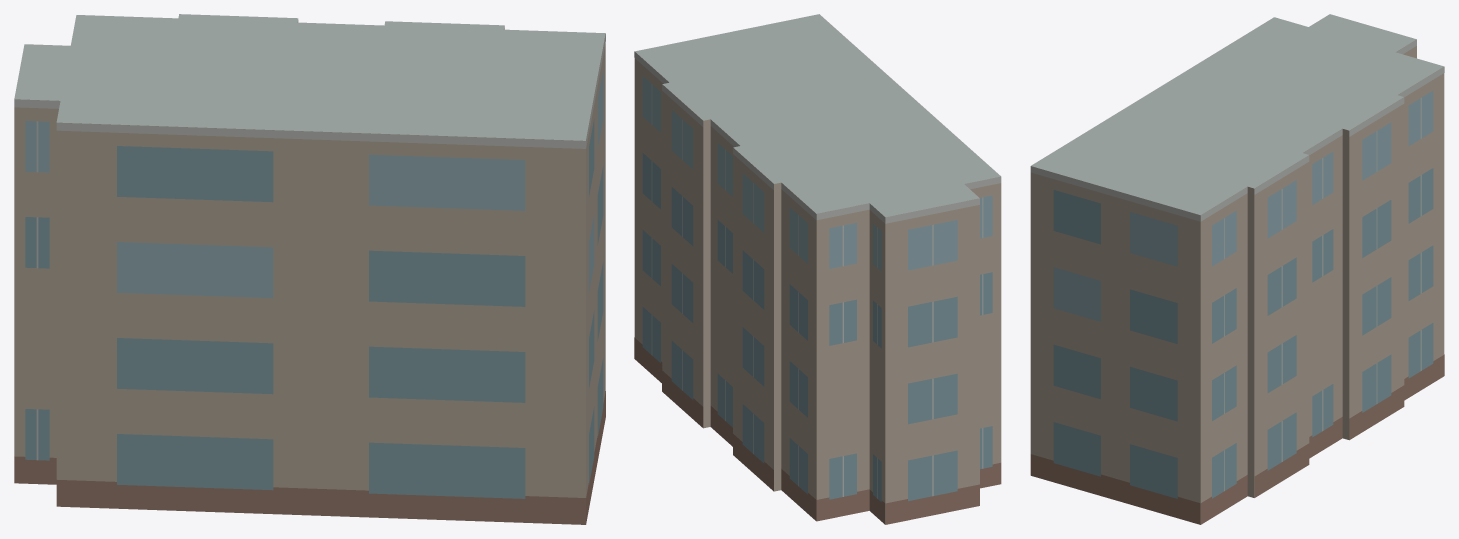
Rendered from survey-upis-32915086.glb.
3 views of the same model, side by side, from view 1: azimuth 30°, elevation 25°; view 2: azimuth 150°, elevation 25°; view 3: azimuth 270°, elevation 25° (orthographic). The views are drawn at different scales.
Parts seen in each view (by area): view 1: survey-upis-32915086.tmp; view 2: survey-upis-32915086.tmp; view 3: survey-upis-32915086.tmp.
Boxes of the visible parts, x1,y1,x2,y2 form: survey-upis-32915086.tmp: [14, 14, 605, 524]; survey-upis-32915086.tmp: [634, 14, 1001, 524]; survey-upis-32915086.tmp: [1030, 14, 1444, 524].
Bounding box in the file's own units: 16.18 × 11.6 × 14.06.
